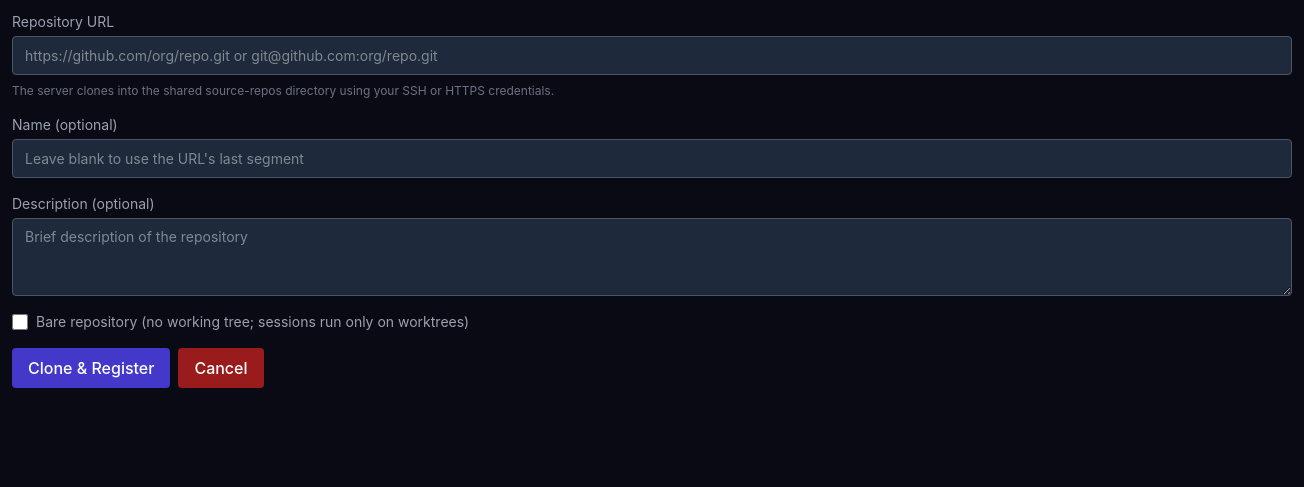
Test case: CloneFromUrlForm › submit + failure › renders the human-readable error for a classified failure
In the field with placeholder "https://github.com": [652, 56] box [12,36,1292,75], type "https://example.invalid/foo.git"
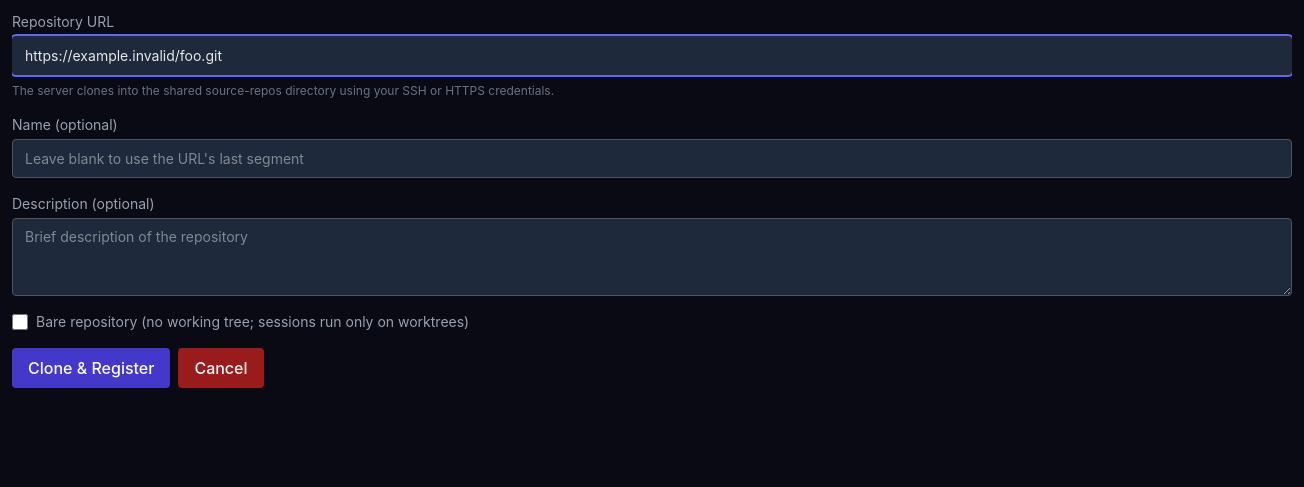
Click the button "Clone & Register": [91, 368] box [12,348,170,388]
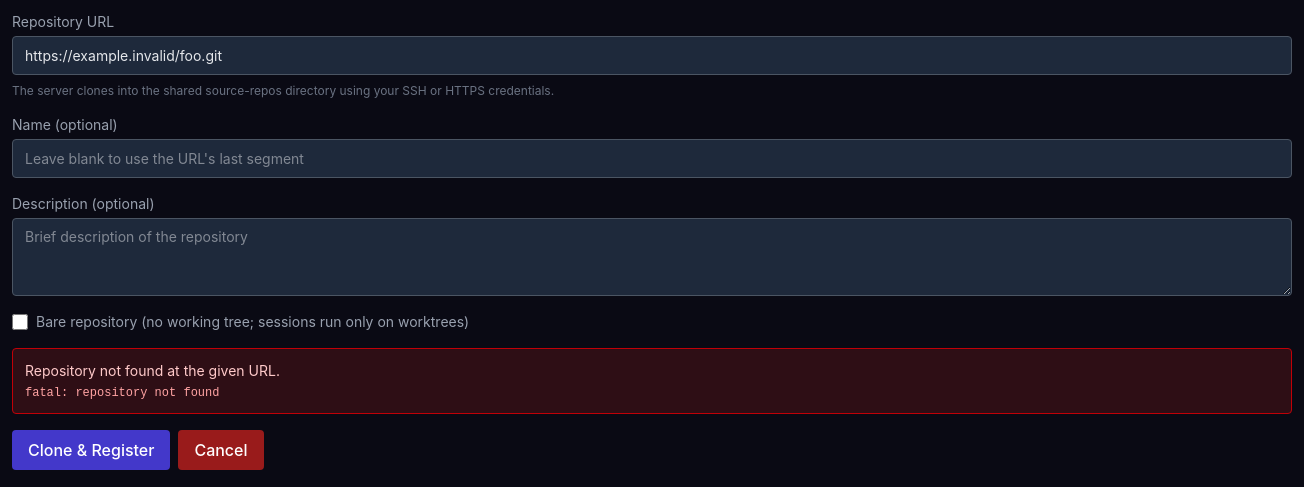
Expected: the text "Repository not found at the given URL." is shown, [25,362,280,379]
